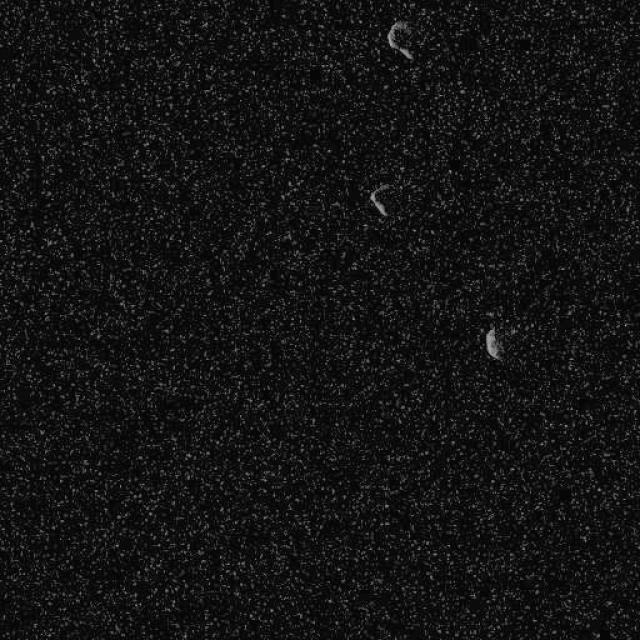D2: (385, 19, 415, 61), (368, 182, 392, 218), (483, 325, 502, 361)
